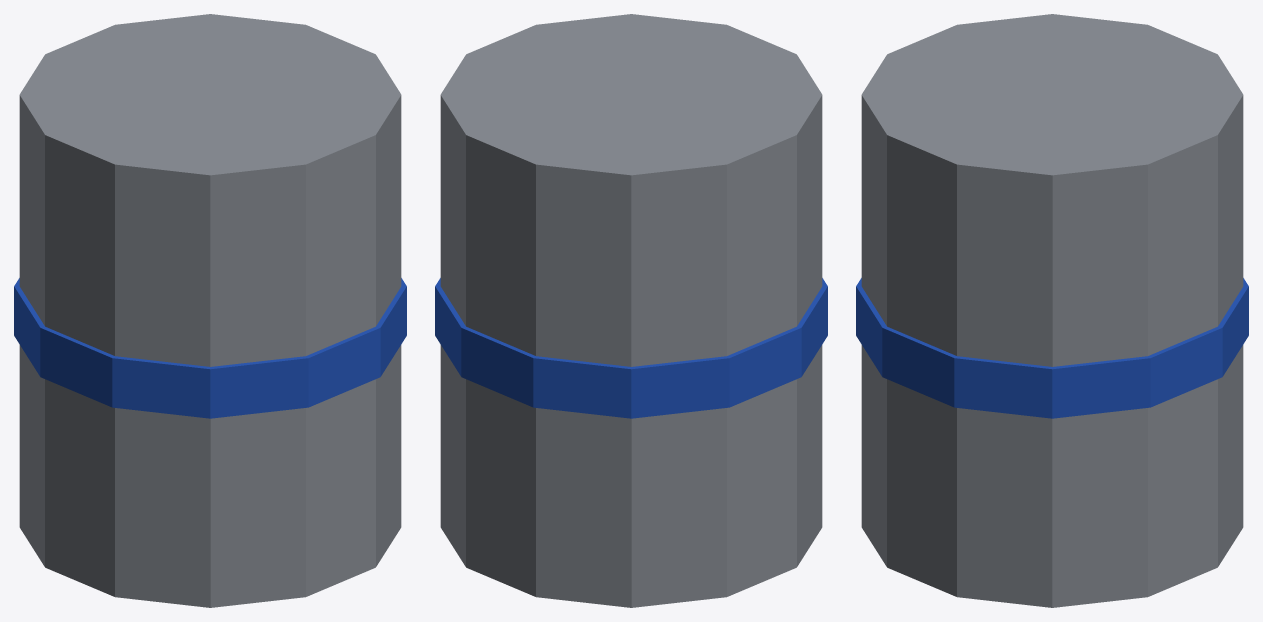
Rendered from TL_Socket_19.fbx.
The picture shows the model from 3 angles, left to right: view 1: azimuth 30°, elevation 25°; view 2: azimuth 150°, elevation 25°; view 3: azimuth 270°, elevation 25°; orthographic projection.
Parts seen in each view (by area): view 1: TL_Socket_19, TL_Socket_19_ColorRing; view 2: TL_Socket_19, TL_Socket_19_ColorRing; view 3: TL_Socket_19, TL_Socket_19_ColorRing.
Boxes of the visible parts, x1=… form: TL_Socket_19: x1=19, y1=14, x2=401, y2=607; TL_Socket_19_ColorRing: x1=14, y1=278, x2=406, y2=418; TL_Socket_19: x1=440, y1=14, x2=822, y2=607; TL_Socket_19_ColorRing: x1=435, y1=278, x2=827, y2=418; TL_Socket_19: x1=861, y1=14, x2=1243, y2=607; TL_Socket_19_ColorRing: x1=856, y1=278, x2=1248, y2=418.
Bounding box in the file's own units: 0.0288 × 0.035 × 0.0288.
1 material, 1 textured.
